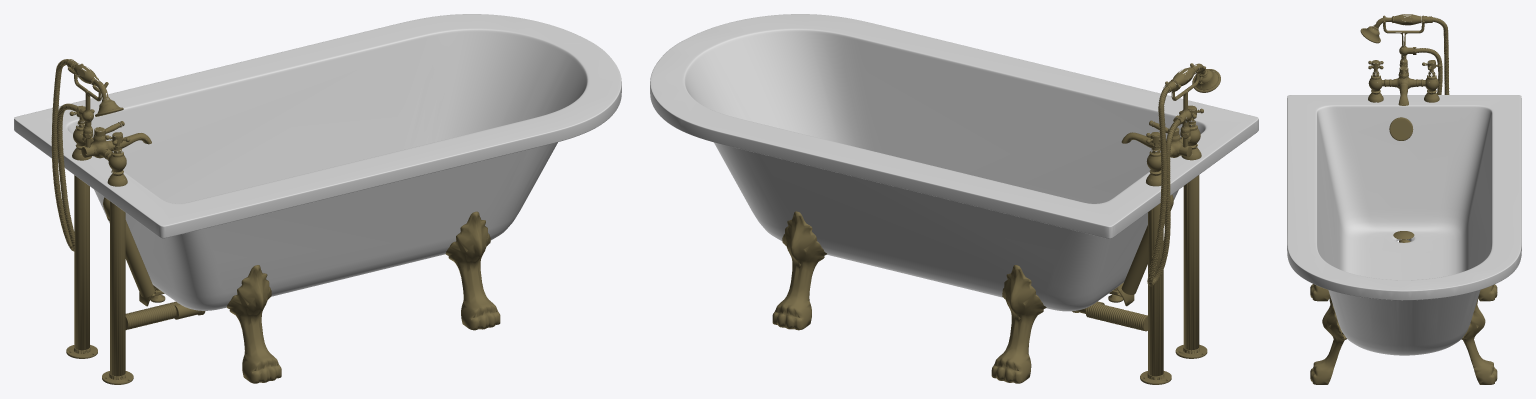
The picture shows the model from 3 angles, left to right: view 1: azimuth 30°, elevation 25°; view 2: azimuth 150°, elevation 25°; view 3: azimuth 270°, elevation 25°; orthographic projection. The views are drawn at different scales.
Visible parts, largest first — view 1: Rectangle156; view 2: Rectangle156; view 3: Rectangle156.
Part boxes in pixels (x1,y1,x2,y2): Rectangle156: (14, 14, 621, 384); Rectangle156: (650, 14, 1258, 384); Rectangle156: (1287, 14, 1521, 384).
Bounding box in the file's own units: 1.53 × 0.8305 × 0.7564.
